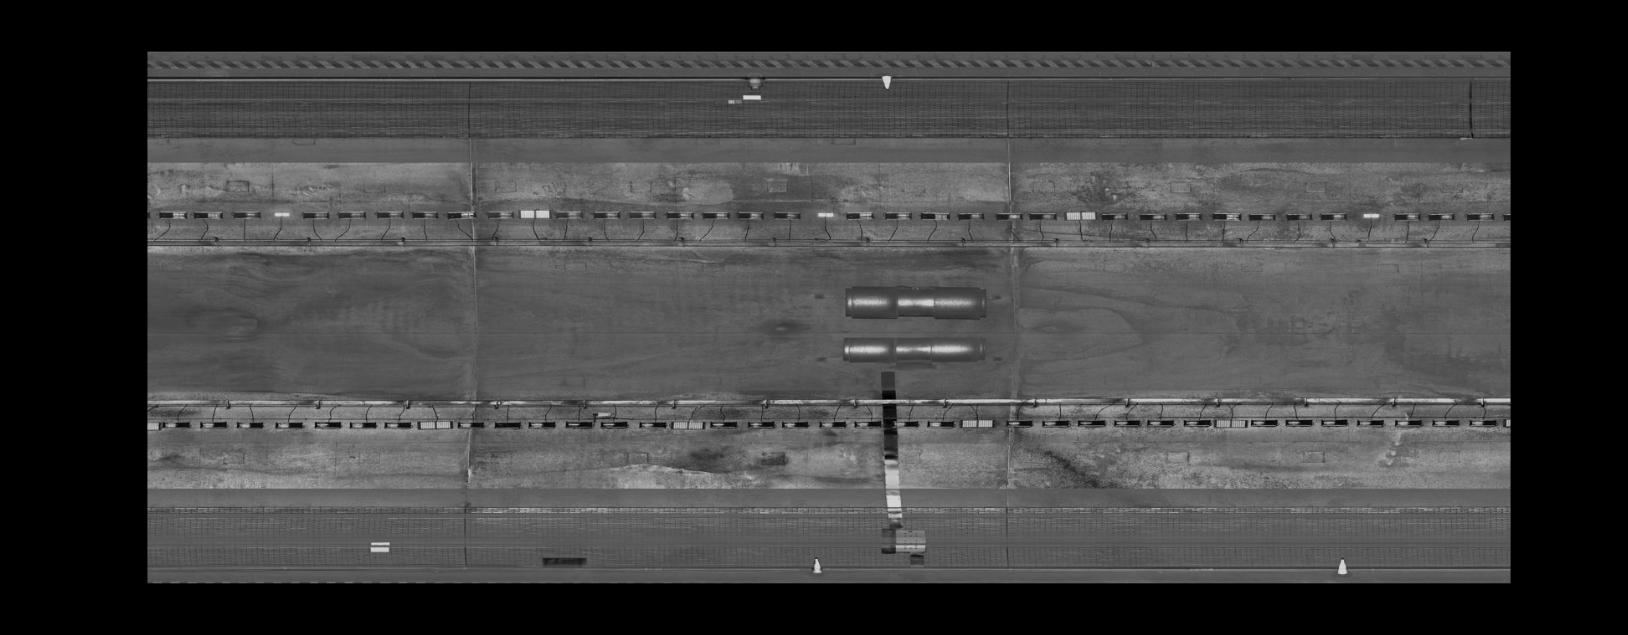light: (1209, 210, 1245, 224), (1062, 209, 1097, 223), (1027, 209, 1060, 223), (1211, 417, 1249, 430), (959, 417, 997, 430), (552, 208, 587, 221), (1173, 209, 1204, 223), (190, 209, 226, 221), (917, 210, 952, 222), (669, 419, 707, 431), (415, 419, 454, 431), (1464, 209, 1496, 222), (1245, 211, 1277, 224), (955, 209, 987, 222), (517, 208, 551, 220), (155, 209, 189, 221), (1391, 210, 1422, 223), (1137, 210, 1168, 223), (993, 209, 1024, 222), (336, 208, 368, 221), (881, 209, 915, 221), (663, 209, 697, 221), (444, 209, 478, 221), (700, 209, 732, 221), (626, 209, 658, 221), (591, 209, 623, 221), (373, 209, 405, 221), (709, 417, 741, 430), (1284, 211, 1315, 223), (1098, 211, 1130, 223), (735, 210, 766, 222), (300, 209, 331, 221), (1317, 211, 1350, 222), (229, 209, 263, 220), (1467, 416, 1500, 427), (454, 418, 487, 430), (1424, 211, 1457, 222), (1248, 416, 1280, 427), (563, 418, 595, 430), (844, 209, 875, 220), (484, 209, 515, 220), (410, 209, 441, 220), (890, 418, 921, 430), (196, 419, 230, 430), (1354, 417, 1387, 427), (1282, 417, 1315, 427), (491, 419, 524, 430), (311, 419, 345, 430), (747, 418, 777, 430), (770, 210, 803, 220), (1317, 417, 1349, 427), (1002, 418, 1034, 429), (345, 420, 380, 430), (1144, 417, 1175, 427), (852, 419, 884, 430), (817, 419, 848, 430), (780, 419, 811, 430), (382, 420, 413, 431), (272, 420, 306, 430), (232, 420, 266, 430), (926, 419, 956, 430), (1430, 418, 1463, 427), (1391, 418, 1424, 427), (1075, 418, 1108, 427), (1039, 418, 1073, 427), (160, 420, 193, 430), (1182, 418, 1214, 427), (599, 420, 631, 430), (525, 420, 558, 430), (637, 420, 669, 430), (1112, 418, 1142, 427), (1359, 210, 1384, 220), (269, 210, 293, 219), (814, 210, 835, 219), (1500, 209, 1509, 223), (147, 420, 160, 430), (1502, 415, 1509, 430)
